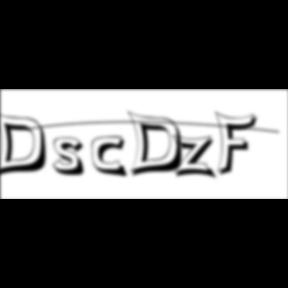D: (127, 110, 190, 180), (0, 110, 54, 180)
F: (215, 110, 263, 178)
c: (92, 136, 132, 180)
s: (54, 137, 92, 179)
z: (172, 134, 222, 182)
